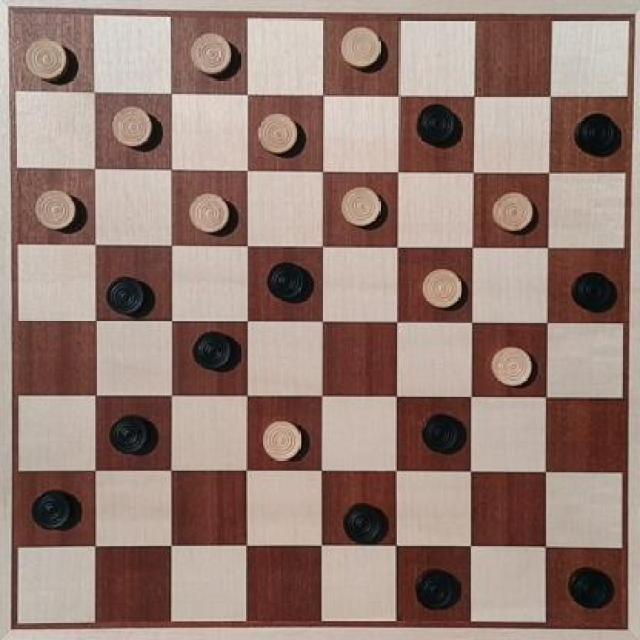BOARD: (11, 8, 628, 629)
black: (551, 97, 626, 170), (404, 558, 480, 614), (408, 92, 466, 163), (249, 248, 314, 311), (562, 257, 619, 324), (328, 496, 394, 552), (188, 319, 244, 380), (28, 479, 84, 539), (565, 559, 621, 618), (103, 404, 159, 462), (103, 260, 150, 321), (421, 408, 468, 464)
white: (480, 180, 544, 236), (412, 260, 472, 318), (24, 176, 84, 232), (102, 95, 155, 157), (21, 32, 77, 90), (187, 182, 239, 242), (257, 403, 306, 466), (337, 21, 388, 80), (184, 24, 236, 80), (255, 102, 302, 162), (336, 178, 384, 234), (487, 341, 536, 393)
